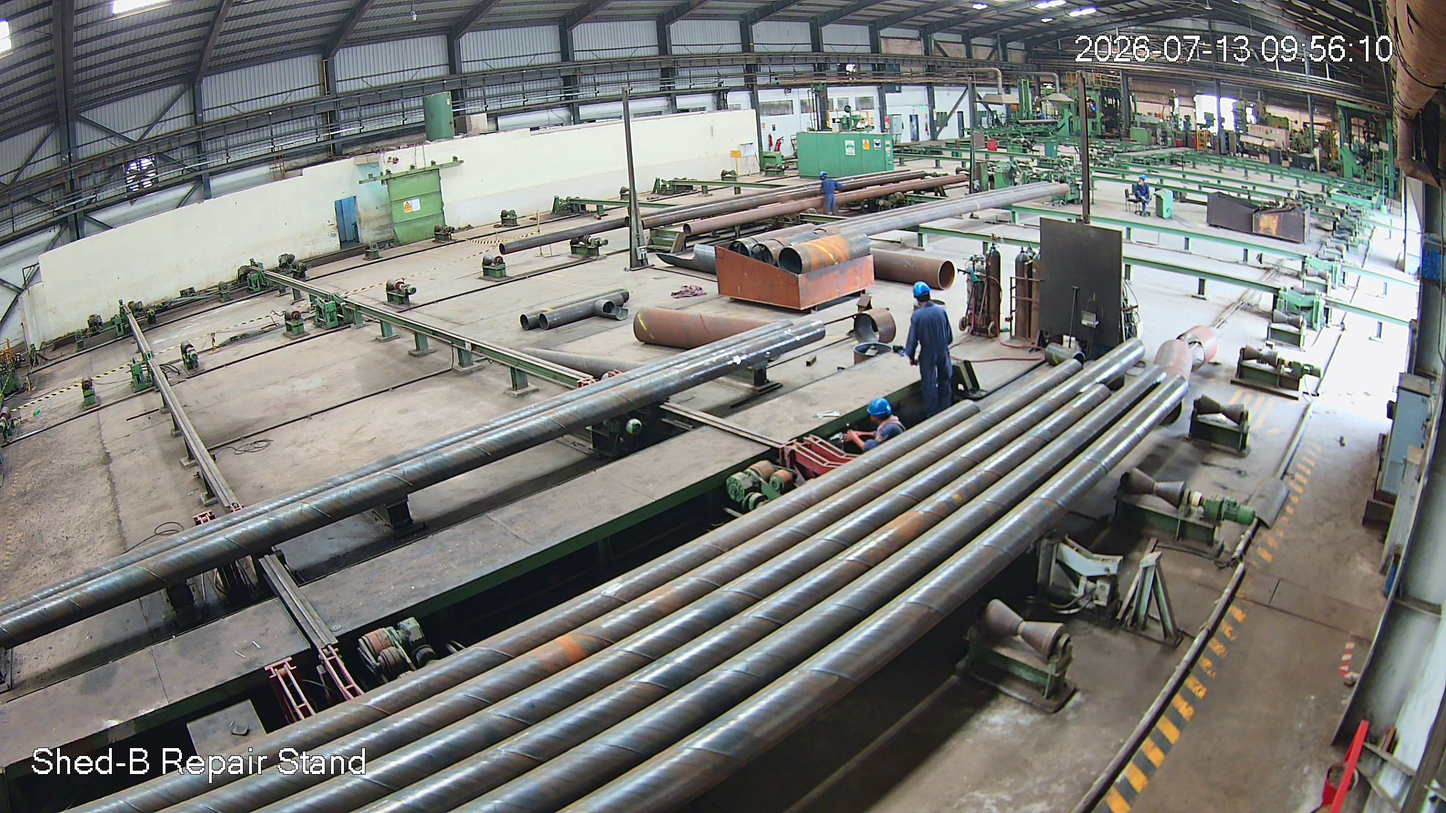Helmet: (858, 397, 897, 427), (908, 281, 936, 318), (818, 170, 832, 183)
Person: (901, 285, 956, 408), (844, 404, 907, 449), (817, 171, 842, 217)
